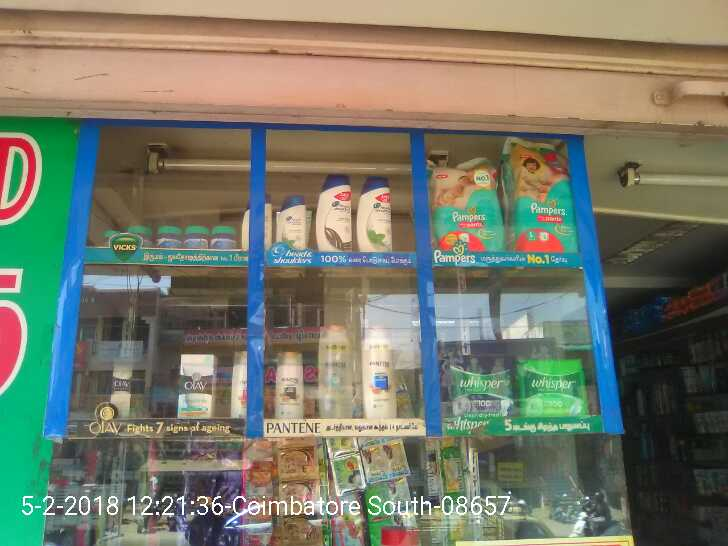vicks: (128, 219, 241, 250)
